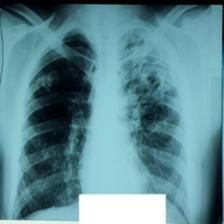tuberculosis: (11, 15, 197, 224)
